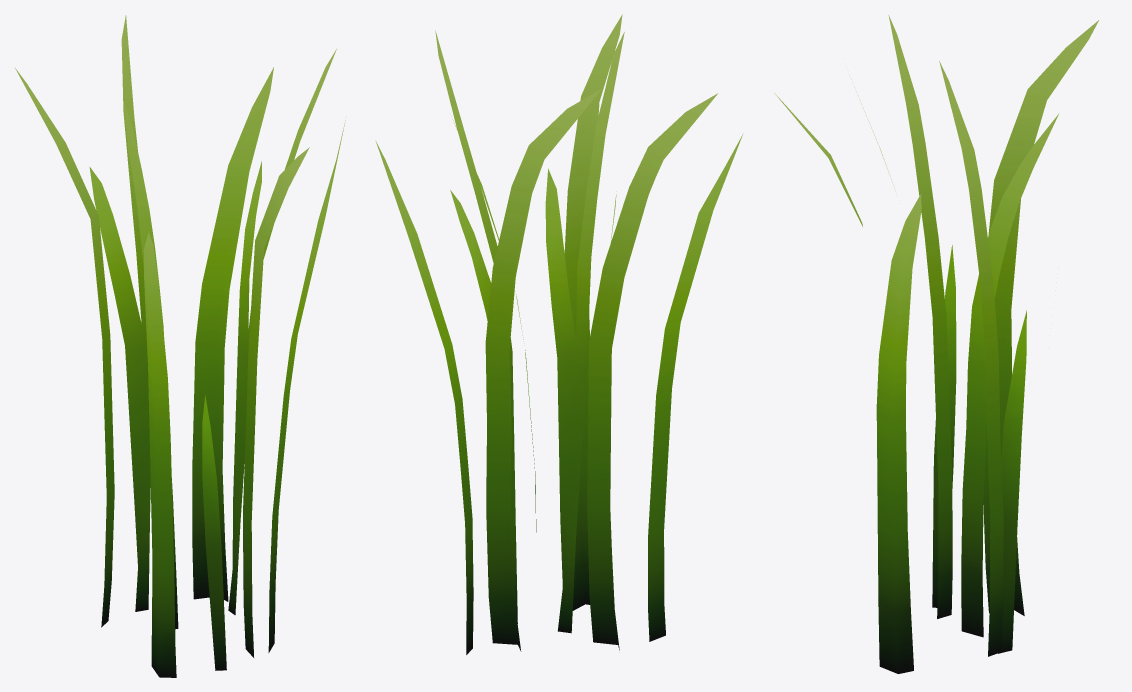
Rendered from grass_tall.glb.
The picture shows the model from 3 angles, left to right: view 1: azimuth 30°, elevation 25°; view 2: azimuth 150°, elevation 25°; view 3: azimuth 270°, elevation 25°; orthographic projection. The views are drawn at different scales.
Visible parts, largest first — view 1: Grass_Common_Tall; view 2: Grass_Common_Tall; view 3: Grass_Common_Tall.
Part boxes in pixels (box(x1,y1,x2,y2)): Grass_Common_Tall: box(15, 15, 346, 677); Grass_Common_Tall: box(375, 14, 743, 654); Grass_Common_Tall: box(774, 15, 1098, 673).
Bounding box in the file's own units: 0.8951 × 1.87 × 0.9931.
1 material, 1 textured.
